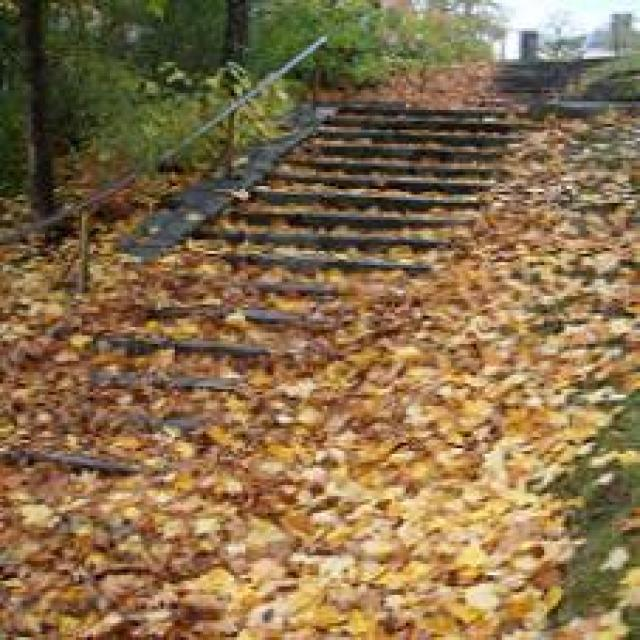upstair: (21, 212, 269, 486)
